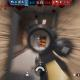Character: (36, 38, 40, 48)
Head: (38, 38, 40, 40)
